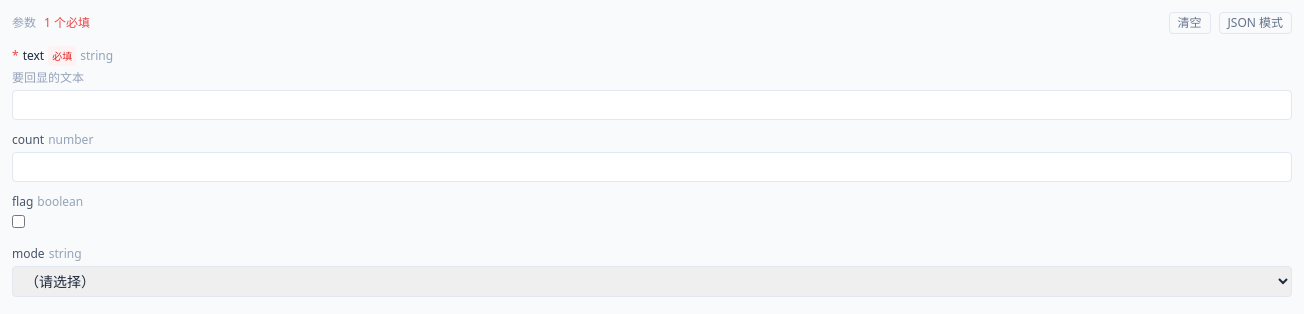
Test case: SchemaForm › 清空按钮清空当前参数
Type "hello" into the field named "text" at (652, 105), box [12,90,1292,120]
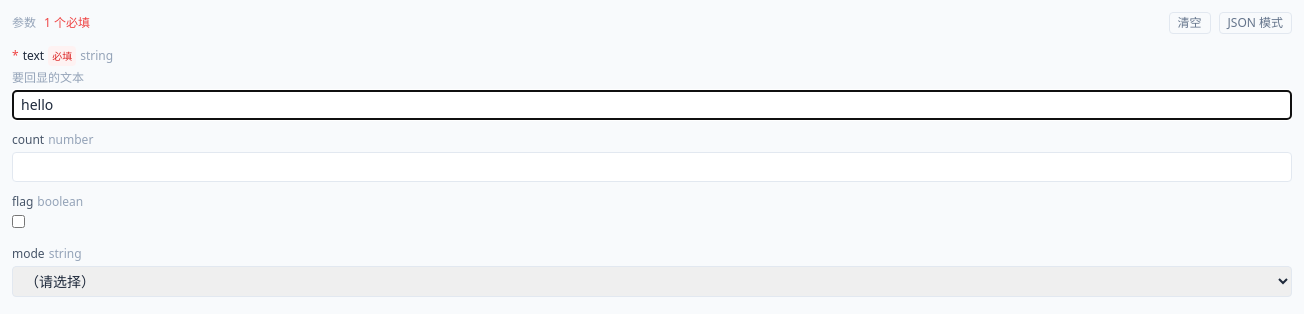
Click the button "清空" at (1190, 23), box [1168,12,1210,34]
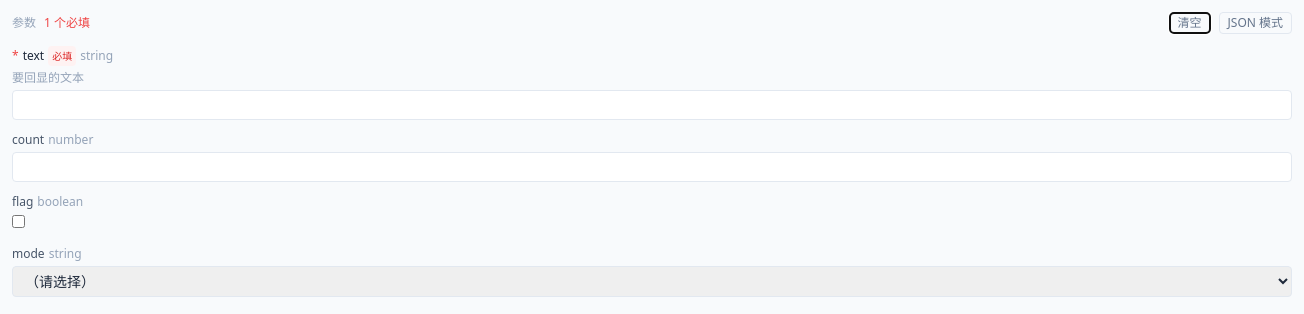
Check: the field named "text" is empty, box [12,90,1292,120]
